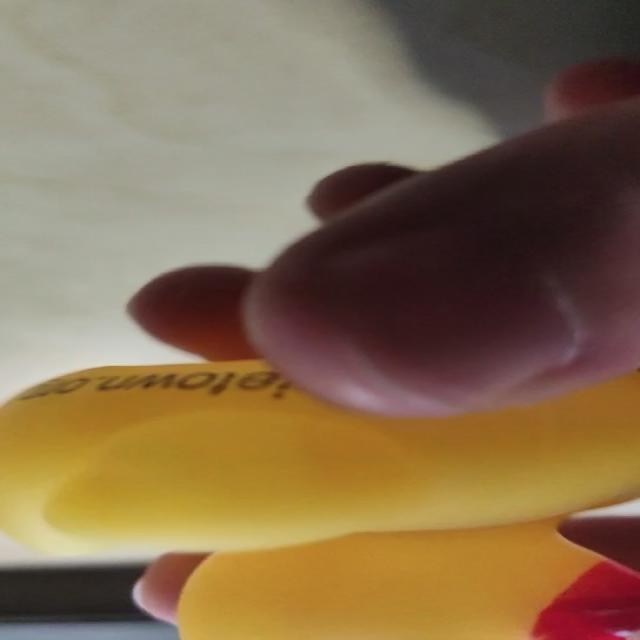rubber-duck: (0, 360, 638, 638)
